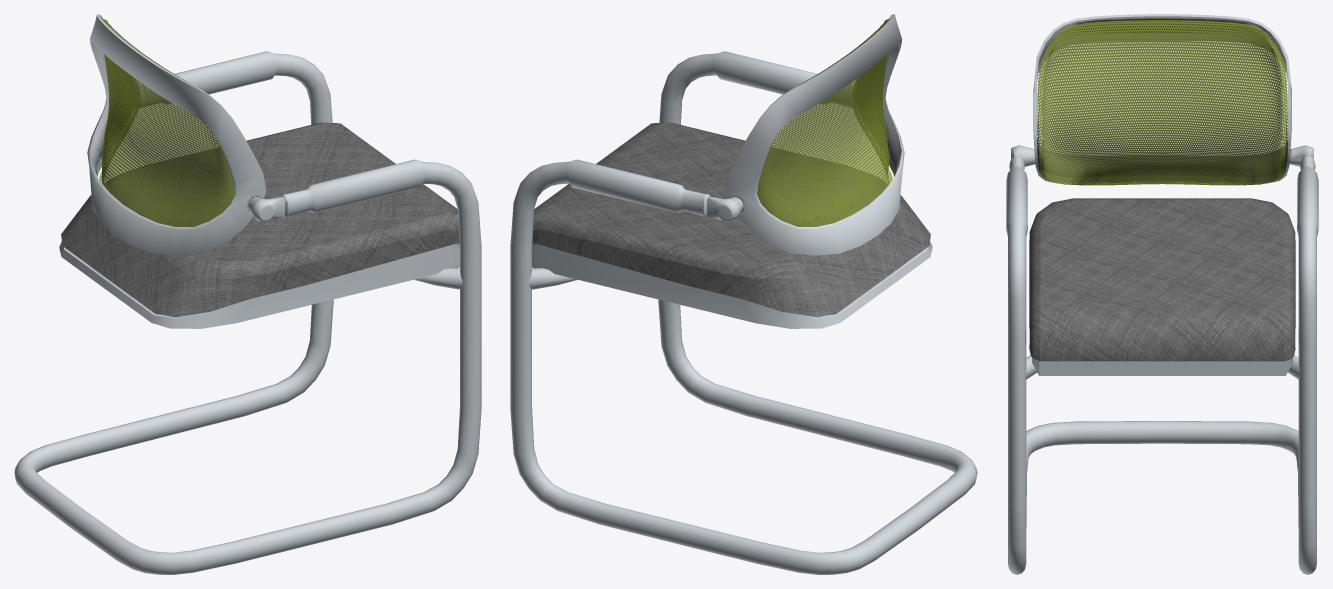
The model's file is meet-chair3.glb.
3 views of the same model, side by side, from view 1: azimuth 30°, elevation 25°; view 2: azimuth 150°, elevation 25°; view 3: azimuth 270°, elevation 25° (orthographic).
Parts seen in each view (by area): view 1: Slice.002, Cube.010, Cube.013, Cube.012; view 2: Slice.002, Cube.010, Cube.013, Cube.012; view 3: Slice.002, Cube.013, Cube.010, Cube.012.
Part boxes in pixels (x1=…): Slice.002: x1=59, y1=122, x2=459, y2=328; Cube.010: x1=14, y1=51, x2=481, y2=574; Cube.013: x1=99, y1=18, x2=253, y2=226; Cube.012: x1=87, y1=14, x2=266, y2=255; Slice.002: x1=532, y1=122, x2=932, y2=328; Cube.010: x1=510, y1=51, x2=977, y2=574; Cube.013: x1=739, y1=18, x2=892, y2=226; Cube.012: x1=725, y1=14, x2=904, y2=255; Slice.002: x1=1029, y1=198, x2=1295, y2=375; Cube.013: x1=1037, y1=18, x2=1287, y2=185; Cube.010: x1=1006, y1=145, x2=1318, y2=574; Cube.012: x1=1033, y1=14, x2=1291, y2=183.
Bounding box in the file's own units: 0.6227 × 0.7874 × 0.4882.
1 material, 1 textured.
